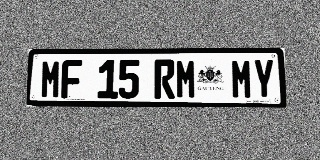1: (97, 60, 118, 99)
5: (119, 60, 139, 99)
F: (61, 60, 82, 98)
M: (231, 59, 253, 99), (176, 59, 197, 99), (40, 60, 61, 98)
R: (154, 59, 175, 99)
Y: (253, 59, 275, 99)
